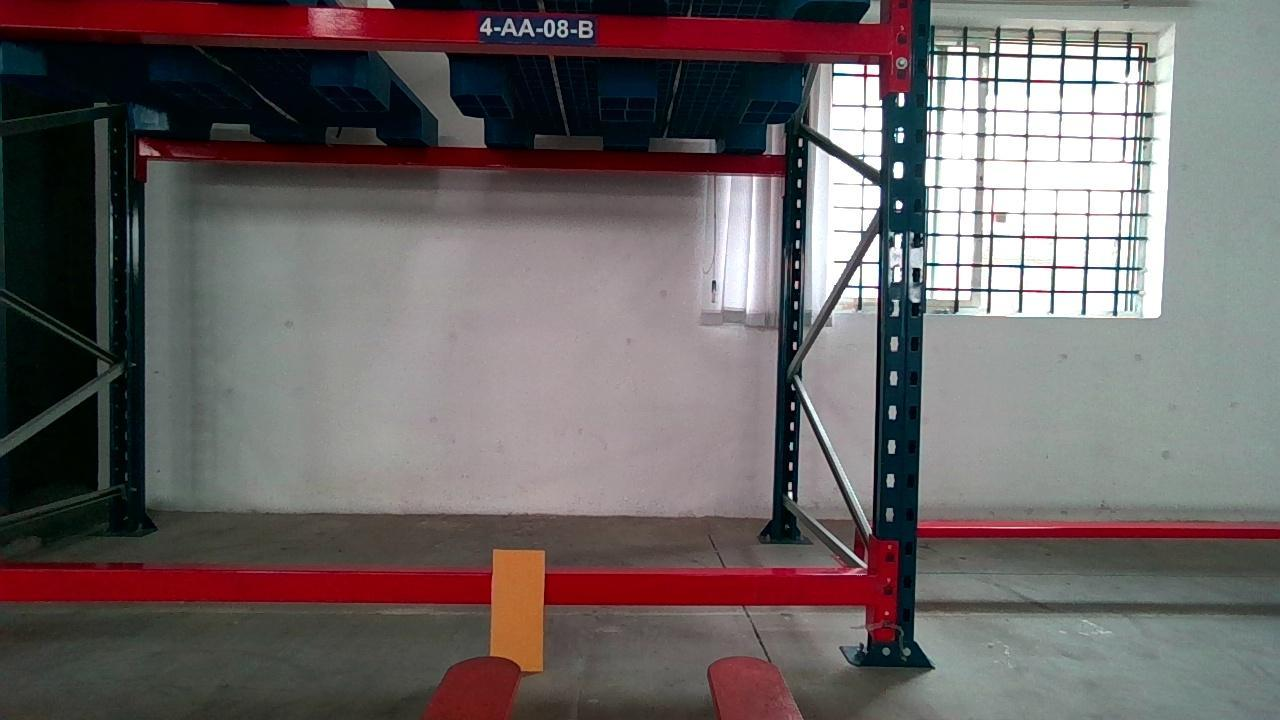h_rack: (0, 0, 889, 55), (2, 564, 875, 602)
orange_strip: (492, 549, 545, 672)
